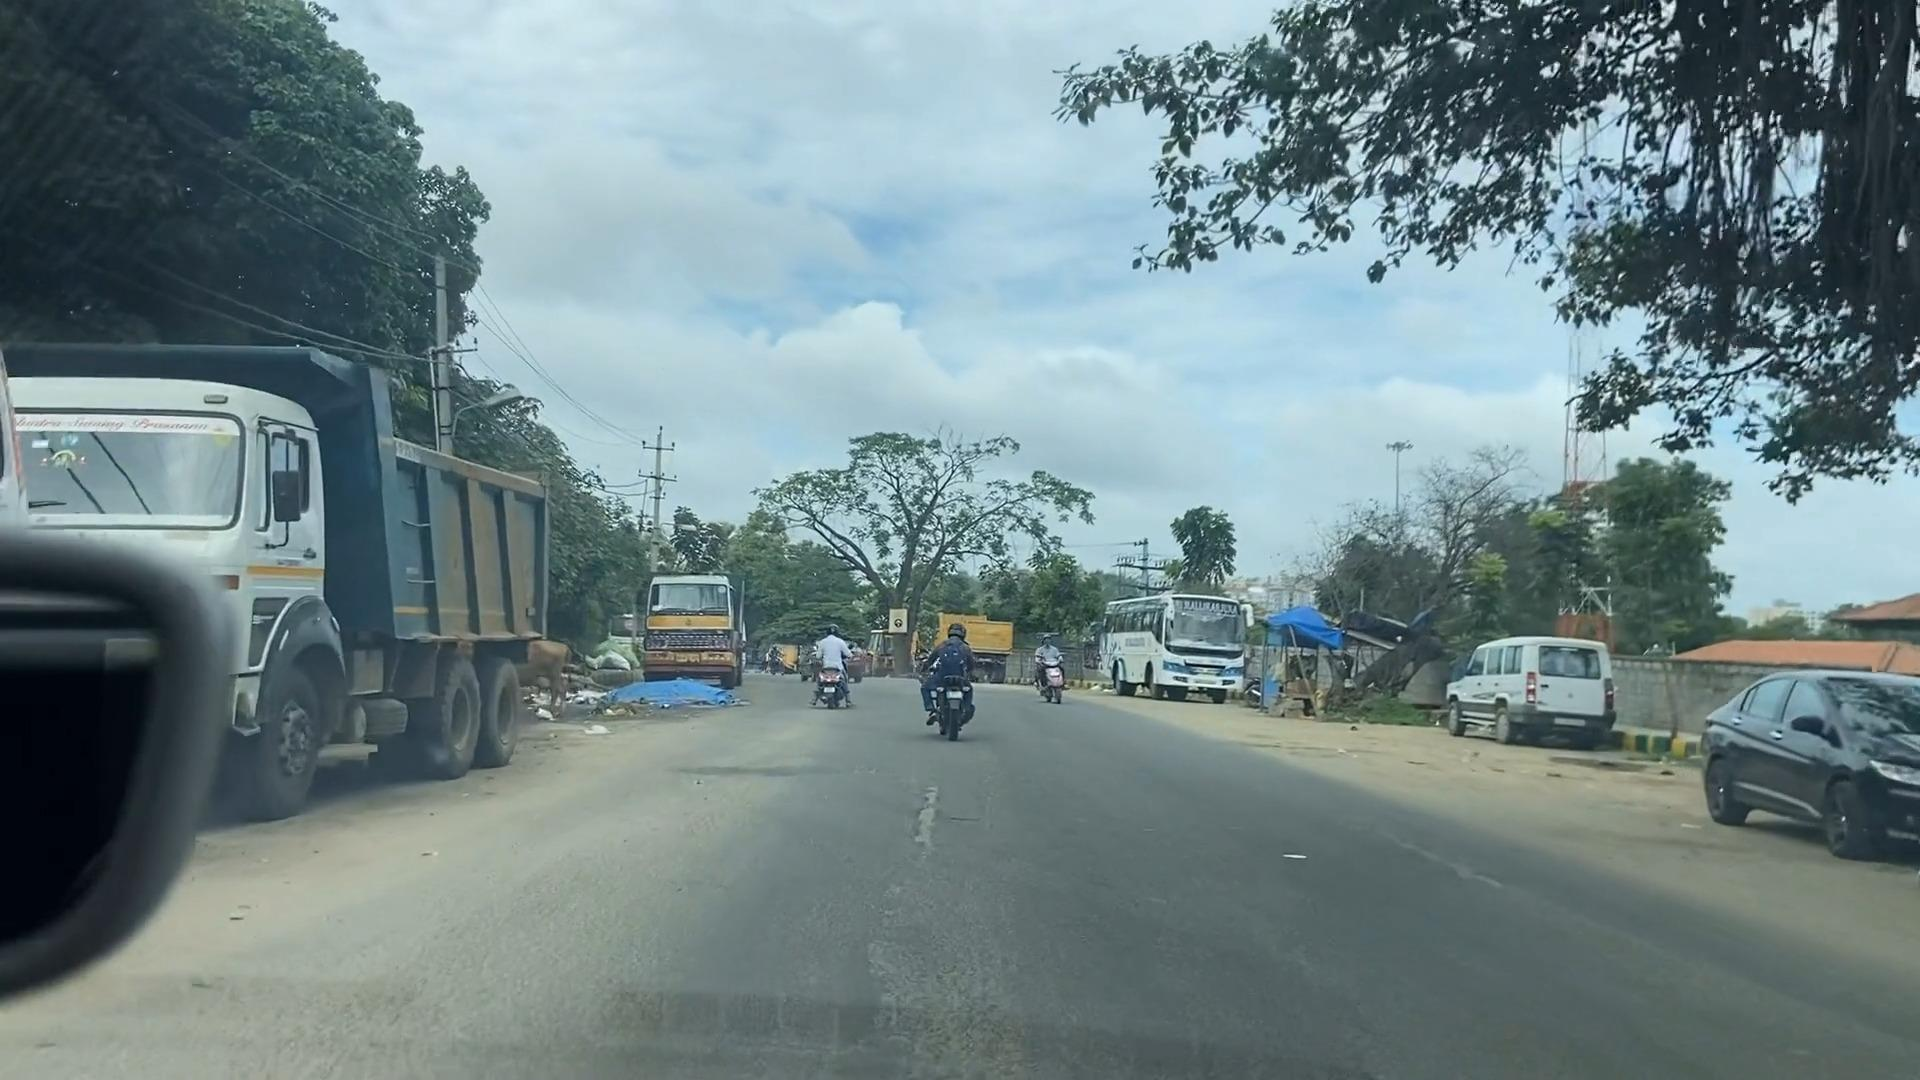HMV: (7, 313, 554, 802), (1058, 550, 1262, 723), (629, 518, 752, 700)
LMV: (1644, 620, 1920, 882), (1391, 582, 1625, 778), (895, 546, 1036, 796), (771, 579, 860, 728), (1031, 620, 1068, 716)
RoadDamages: (886, 758, 964, 866)
